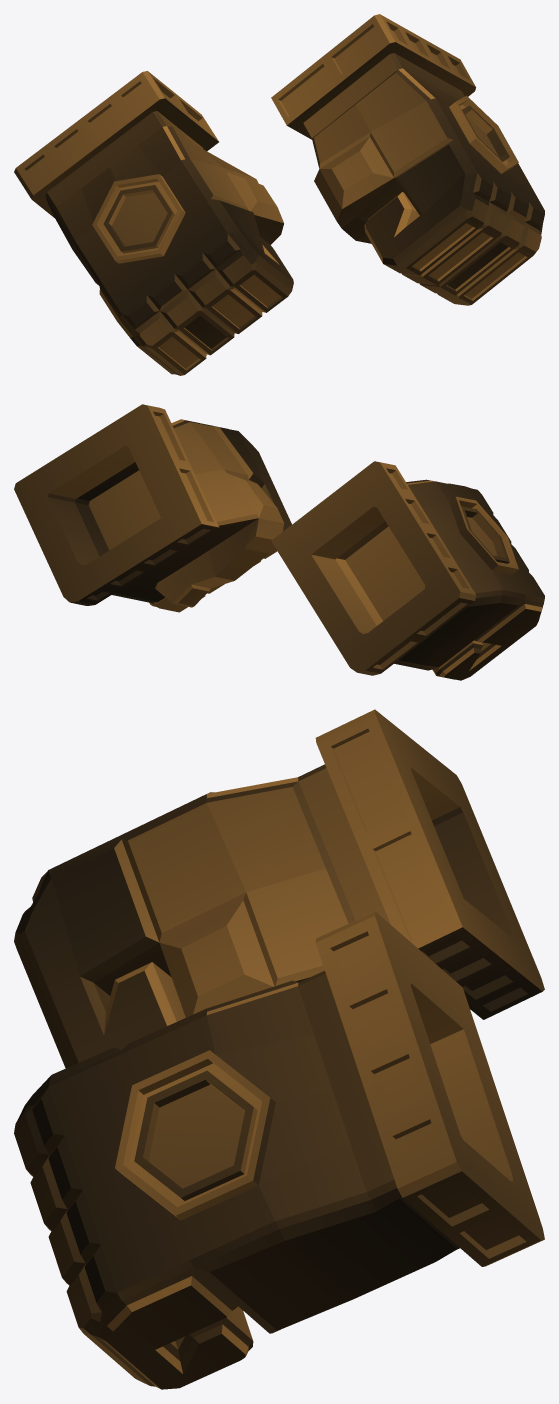
The model's file is gauntlet_force.fbx.
3 renders of one model, top to bottom at view 1: azimuth 30°, elevation 25°; view 2: azimuth 150°, elevation 25°; view 3: azimuth 270°, elevation 25°, orthographic. The views are drawn at different scales.
Parts seen in each view (by area): view 1: gaunt_right, gaunt_left; view 2: gaunt_right, gaunt_left; view 3: gaunt_left, gaunt_right.
Part boxes in pixels (x1,y1,x2,y2): gaunt_right: (14, 71, 293, 375); gaunt_left: (271, 14, 544, 305); gaunt_right: (271, 461, 544, 680); gaunt_left: (14, 404, 291, 612); gaunt_left: (14, 911, 544, 1389); gaunt_right: (14, 709, 544, 1068).
Size of the model in its own units: 111 by 60.41 by 64.32.
